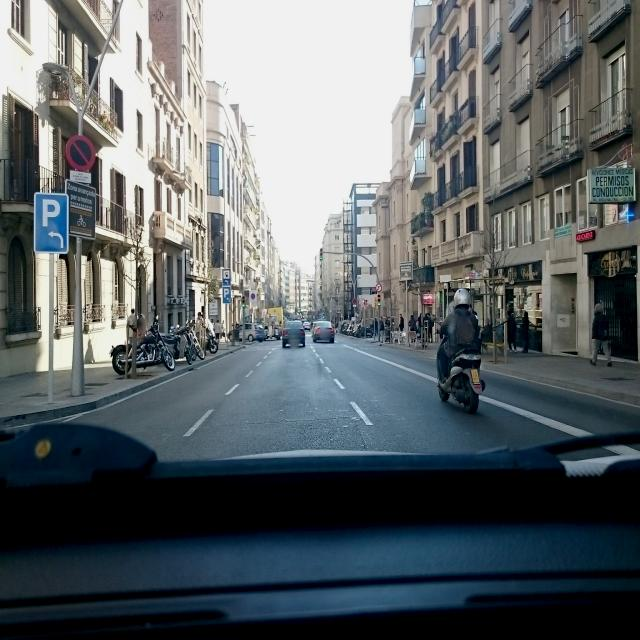bike: (435, 326, 486, 414)
car: (282, 318, 306, 348), (236, 322, 263, 342), (312, 320, 334, 344), (254, 323, 267, 342), (340, 322, 348, 336), (303, 319, 312, 331)
